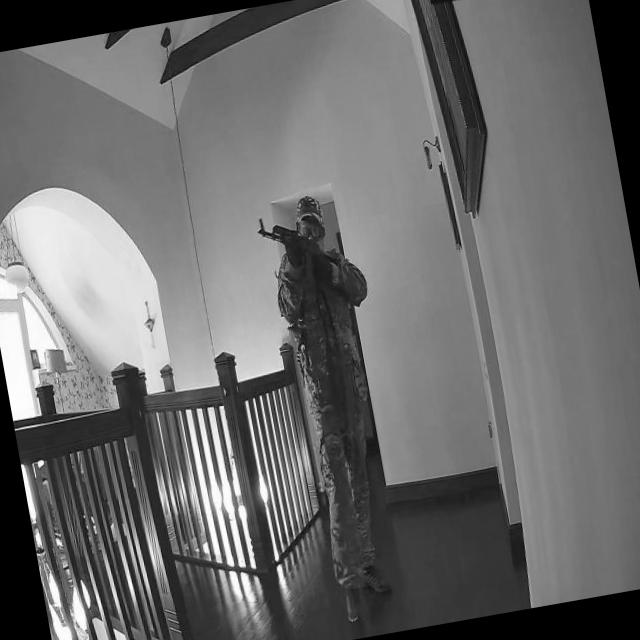gun: (252, 208, 334, 266)
person with a gun: (247, 190, 409, 626)
